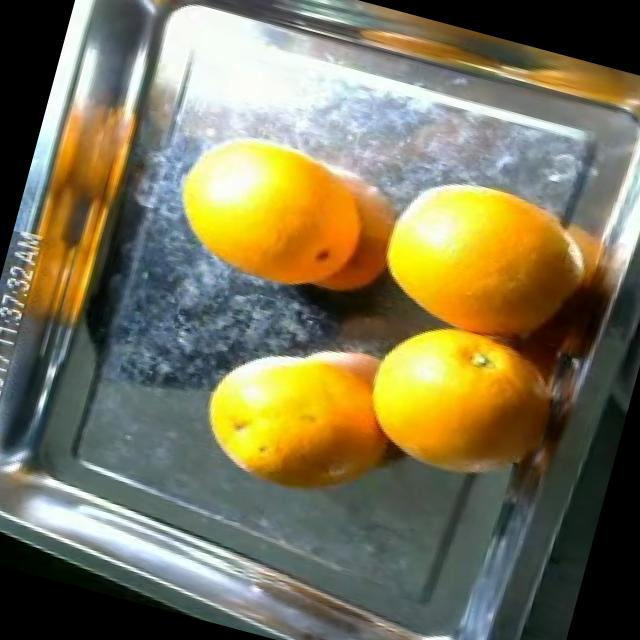Fruit: (143, 104, 392, 316), (174, 313, 416, 523)
